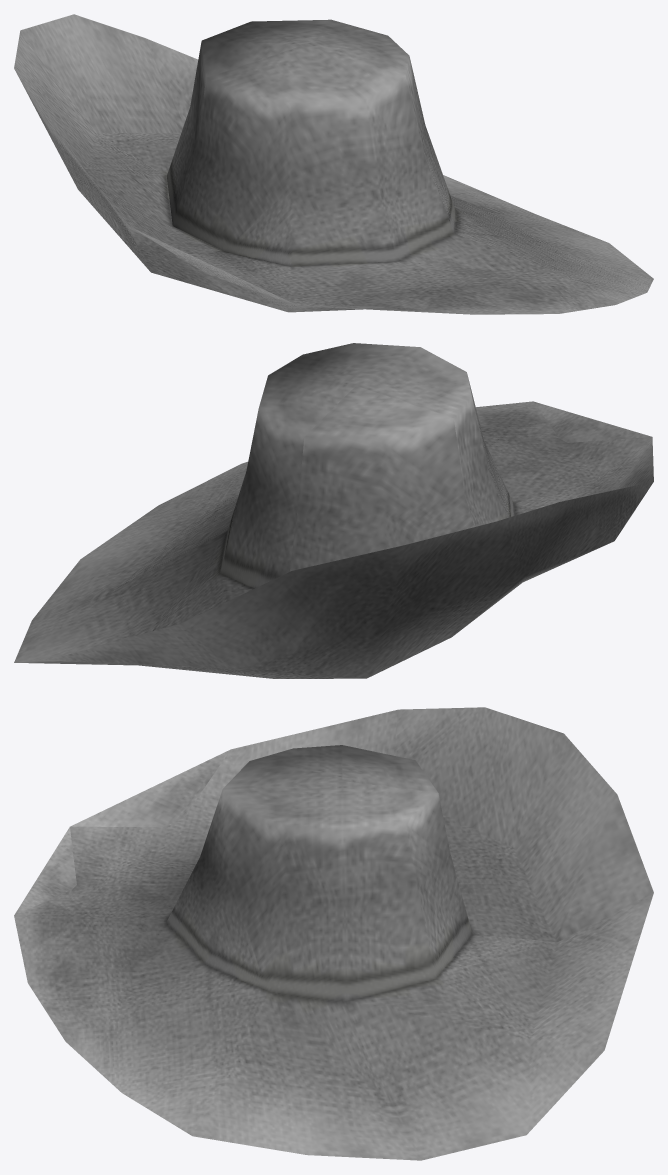
Rendered from shop_tailor_hat_dressHat.fbx.
The picture shows the model from 3 angles, top to bottom: view 1: azimuth 30°, elevation 25°; view 2: azimuth 150°, elevation 25°; view 3: azimuth 270°, elevation 25°; orthographic projection. The views are drawn at different scales.
Parts seen in each view (by area): view 1: lod_high; view 2: lod_high; view 3: lod_high.
Part boxes in pixels (x1,y1,x2,y2): lod_high: (14,14,653,314); lod_high: (14,343,653,678); lod_high: (14,707,653,1160).
Size of the model in its own units: 114 by 55.56 by 128.
Materials: 1 (1 with a texture image).
